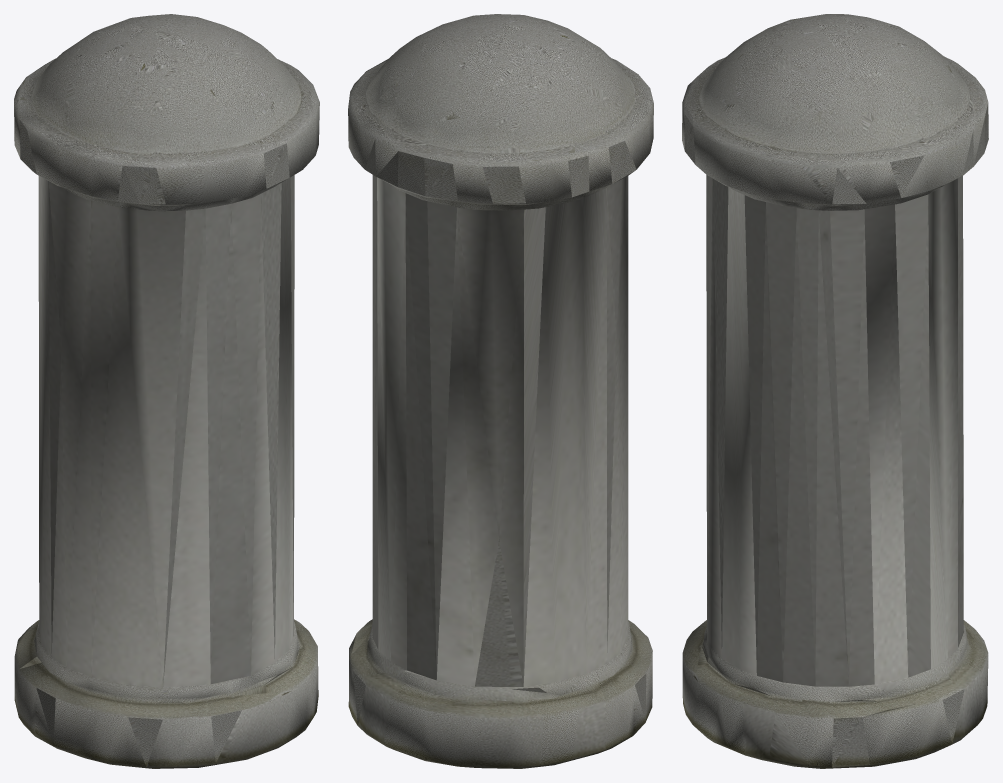
The model's file is frade-de-concreto-v2__01a1b613_LOD1.glb.
3 views of the same model, side by side, from view 1: azimuth 30°, elevation 25°; view 2: azimuth 150°, elevation 25°; view 3: azimuth 270°, elevation 25° (orthographic).
Visible parts, largest first — view 1: frade-de-concreto-v2__01a1b613_LOD1; view 2: frade-de-concreto-v2__01a1b613_LOD1; view 3: frade-de-concreto-v2__01a1b613_LOD1.
Part boxes in pixels (bbox=[...]): frade-de-concreto-v2__01a1b613_LOD1: bbox=[14, 14, 319, 768]; frade-de-concreto-v2__01a1b613_LOD1: bbox=[348, 14, 653, 768]; frade-de-concreto-v2__01a1b613_LOD1: bbox=[682, 14, 988, 768].
Bounding box in the file's own units: 0.2872 × 0.6999 × 0.2867.
1 material, 1 textured.
